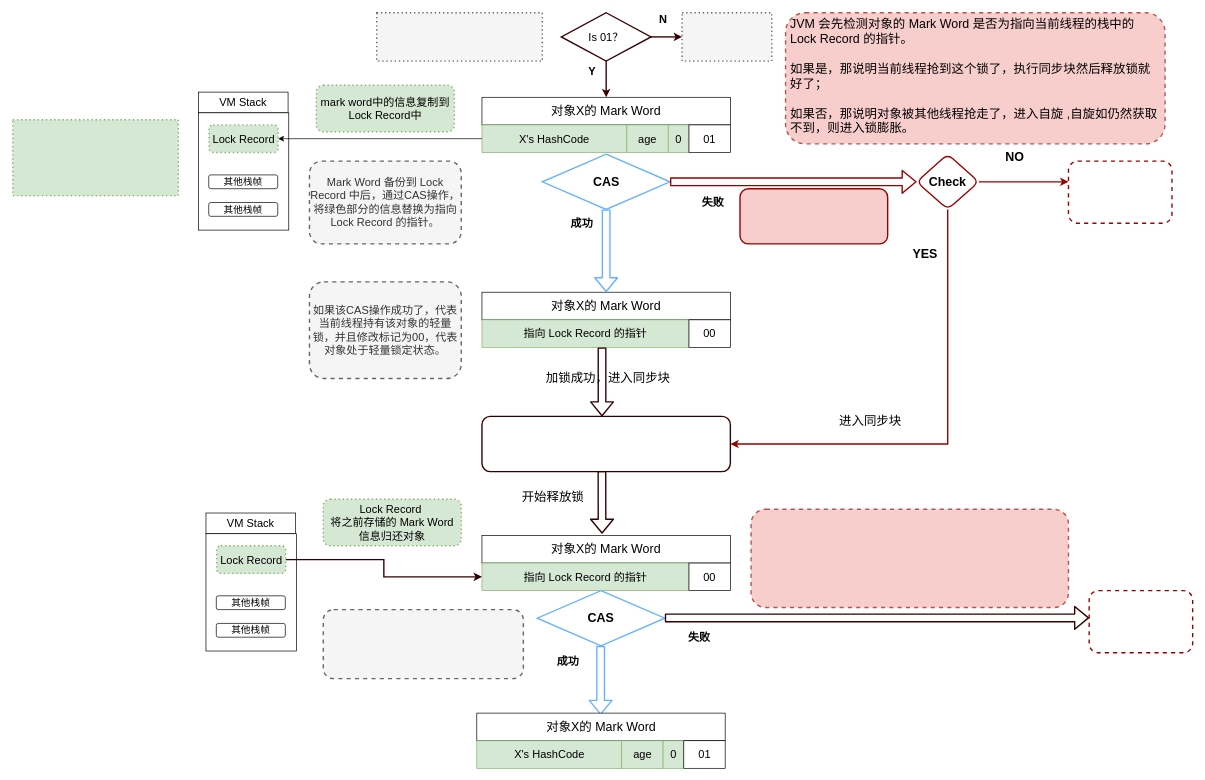
Some shapes in this 1205 by 780 pixel diagram are drawn without their labels. The centre of each missing label's shape, as x and y in pixels:
JVM会在当前线程的栈帧中创建一个锁记录 Lock Record。 然后把 对象X的 Mark Word 的全部信息存入 Lock Record.: the point at 95,157
不在轻量级锁流程讨论范围: the point at 726,36
如果CAS失败，则一定是有其他线程在竞争该对象。: the point at 813,216
执行同步块: the point at 606,443
自旋 -->锁膨胀: the point at 1119,192
进入同步代码块前，如果同步对象X未被锁定(aka 标志位为 01)。: the point at 459,36
通过CAS操作，如果指针 还是指向当前线程的 Lock Record，那么就把之前拷贝的 Mark Word 信息还给对象头。: the point at 423,644
释放锁过程中如果CAS操作失败，说明有其他线程尝试过获取锁，这时需要在释放锁的同时，唤醒被挂起的线程。特殊情况，该锁有可能已经膨胀成重量级锁了。: the point at 909,558
锁释放，并唤醒挂起线程。: the point at 1140,621
